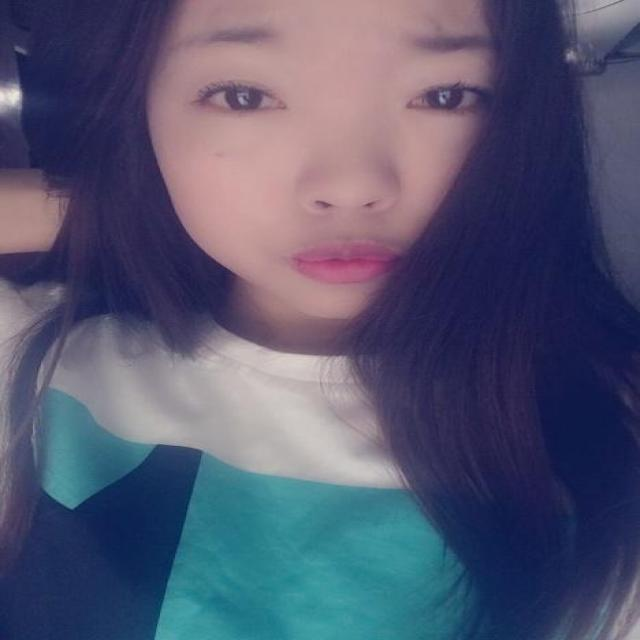short sleeve top: (3, 283, 637, 635)
